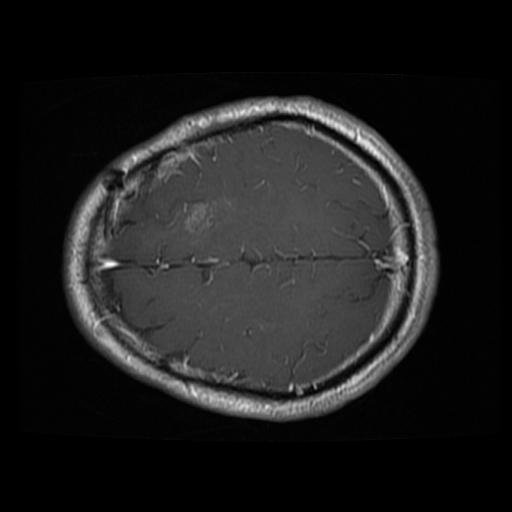glioma: (180, 200, 216, 236)
